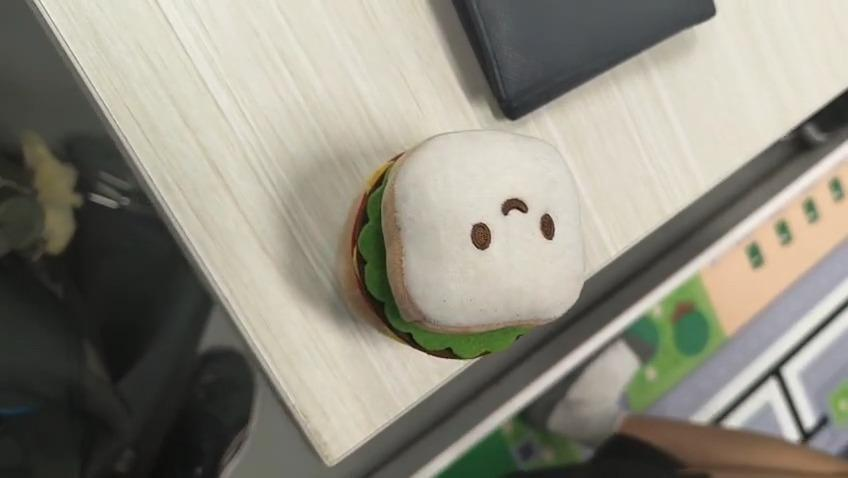objects: (348, 129, 591, 360)
